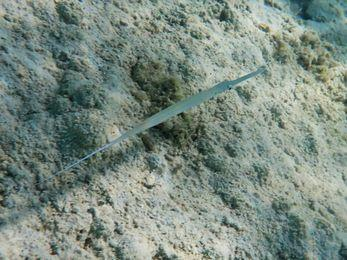Fistularia commersonii: (53, 63, 268, 177)
